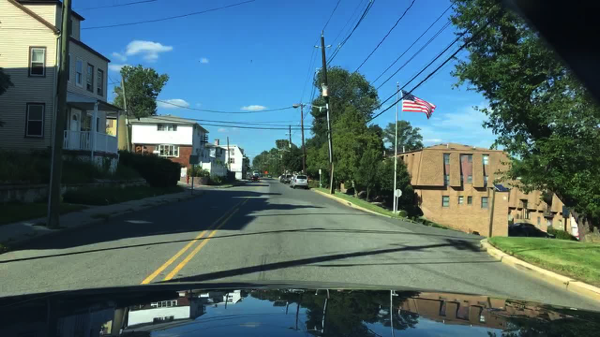car: (509, 221, 541, 237), (293, 174, 309, 190), (289, 173, 297, 188), (283, 173, 293, 184), (251, 177, 260, 183), (279, 175, 285, 184), (267, 175, 273, 180)
traffic sign: (561, 208, 571, 218), (395, 190, 403, 198), (317, 170, 322, 175), (262, 171, 268, 175)
truck: (252, 170, 261, 177)
